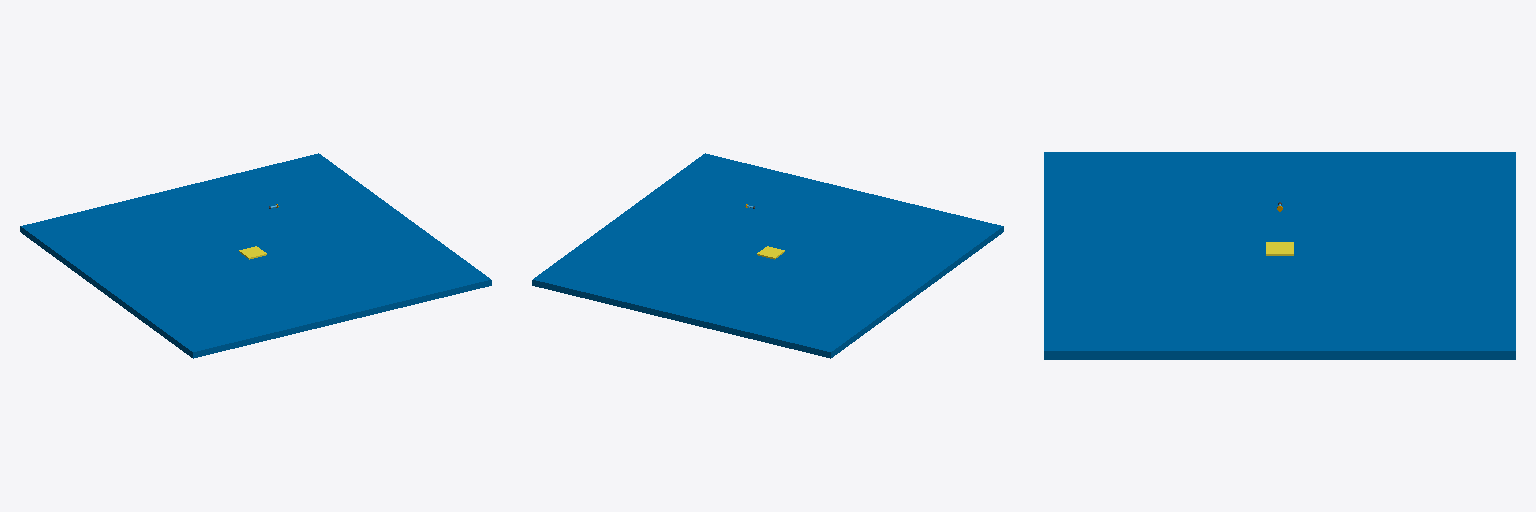
URDF robot description (panda):
<?xml version="1.0" encoding="utf-8"?>

<robot xmlns:drake="http://drake.mit.edu" name="panda">
  <material name="black">
    <color rgba="0.3 0.3 0.3 1"/>
  </material>

  <link name="panda_link0">
    <inertial>
      <mass value="2.92"/>
      <origin xyz="-0.025566 -2.88e-05 0.057332" rpy="0 0 0"/>
      <inertia ixx="0.00782229414331" ixy="-1.56191622996e-05" ixz="-0.00126005738123" iyy="0.0109027971813" iyz="1.08233858202e-05" izz="0.0102355503949"/>
    </inertial>
    <visual>
      <origin rpy="1.57079632679 0 0"/>
      <geometry>
        <mesh filename="package://drake_models/franka_description/meshes/visual/link0.obj"/>
      </geometry>
    </visual>
    <collision>
      <origin rpy="0 0 0" xyz="0.02 0.0 0.04"/>
      <geometry>
        <sphere radius="0.06"/>
      </geometry>
    </collision>
    <collision>
      <origin rpy="0 0 0" xyz="0.01 0.05 0.06"/>
      <geometry>
        <sphere radius="0.06"/>
      </geometry>
    </collision>
    <collision>
      <origin rpy="0 0 0" xyz="0.01 -0.05 0.06"/>
      <geometry>
        <sphere radius="0.06"/>
      </geometry>
    </collision>
    <collision>
      <origin rpy="0 0 0" xyz="-0.06 0.0 0.06"/>
      <geometry>
        <sphere radius="0.06"/>
      </geometry>
    </collision>
    <collision>
      <origin rpy="0 0 0" xyz="-0.06 0.05 0.06"/>
      <geometry>
        <sphere radius="0.06"/>
      </geometry>
    </collision>
    <collision>
      <origin rpy="0 0 0" xyz="-0.03 0.05 0.06"/>
      <geometry>
        <sphere radius="0.06"/>
      </geometry>
    </collision>
    <collision>
      <origin rpy="0 0 0" xyz="-0.03 -0.05 0.06"/>
      <geometry>
        <sphere radius="0.06"/>
      </geometry>
    </collision>
    <collision>
      <origin rpy="0 0 0" xyz="-0.06 -0.05 0.06"/>
      <geometry>
        <sphere radius="0.06"/>
      </geometry>
    </collision>
    <collision>
      <origin rpy="0 0 0" xyz="-0.09 -0.05 0.06"/>
      <geometry>
        <sphere radius="0.06"/>
      </geometry>
    </collision>
    <collision>
      <origin rpy="0 0 0" xyz="-0.09 0.0 0.06"/>
      <geometry>
        <sphere radius="0.06"/>
      </geometry>
    </collision>
    <collision>
      <origin rpy="0 0 0" xyz="-0.09 0.05 0.06"/>
      <geometry>
        <sphere radius="0.06"/>
      </geometry>
    </collision>
    <collision>
      <origin rpy="0 0 0" xyz="-0.12 0.0 0.06"/>
      <geometry>
        <sphere radius="0.06"/>
      </geometry>
    </collision>
    <collision>
      <origin rpy="0 0 0" xyz="0.0 0.0 0.113"/>
      <geometry>
        <sphere radius="0.06"/>
      </geometry>
    </collision>
    <collision>
      <origin rpy="0 0 0" xyz="0.0 0.0 0.083"/>
      <geometry>
        <sphere radius="0.06"/>
      </geometry>
    </collision>
  </link>
  <link name="panda_link1">
    <inertial>
      <mass value="2.74"/>
      <origin xyz="0 -0.0324958 -0.0675818" rpy="0 0 0"/>
      <inertia ixx="0.0180416958283" ixy="0.0" ixz="0.0" iyy="0.0159136071891" iyz="0.0046758424612" izz="0.00620690827127"/>
    </inertial>
    <visual>
      <origin rpy="1.57079632679 0 0"/>
      <geometry>
        <mesh filename="package://drake_models/franka_description/meshes/visual/link1.obj"/>
      </geometry>
    </visual>
    <collision>
      <origin rpy="0 0 0" xyz="0.0 0.0 -0.13"/>
      <geometry>
        <sphere radius="0.06"/>
      </geometry>
    </collision>
    <collision>
      <origin rpy="0 0 0" xyz="0.0 0.0 -0.16"/>
      <geometry>
        <sphere radius="0.06"/>
      </geometry>
    </collision>
    <collision>
      <origin rpy="0 0 0" xyz="0.0 0.0 -0.19"/>
      <geometry>
        <sphere radius="0.06"/>
      </geometry>
    </collision>
    <collision>
      <origin rpy="0 0 0" xyz="0.0 -0.04 -0.06"/>
      <geometry>
        <sphere radius="0.06"/>
      </geometry>
    </collision>
    <collision>
      <origin rpy="0 0 0" xyz="0.0 -0.0750 -0.0"/>
      <geometry>
        <sphere radius="0.06"/>
      </geometry>
    </collision>
    <collision>
      <origin rpy="0 0 0" xyz="0.0 -0.0350 -0.0"/>
      <geometry>
        <sphere radius="0.06"/>
      </geometry>
    </collision>
  </link>
  <joint name="panda_joint1" type="revolute">
    <origin rpy="0 0 0" xyz="0 0 0.333"/>
    <parent link="panda_link0"/>
    <child link="panda_link1"/>
    <axis xyz="0 0 1"/>
    <limit effort="87" lower="-2.8973" upper="2.8973" velocity="2.1750"/>
  </joint>
  <link name="panda_link2">
    <inertial>
      <mass value="2.74"/>
      <origin xyz="0 -0.06861 0.0322285" rpy="0 0 0"/>
      <inertia ixx="0.0182856182281" ixy="0.0" ixz="0.0" iyy="0.00621358421175" iyz="-0.00472844221905" izz="0.0161514346309"/>
    </inertial>
    <visual>
      <origin rpy="1.57079632679 0 0"/>
      <geometry>
        <mesh filename="package://drake_models/franka_description/meshes/visual/link2.obj"/>
      </geometry>
    </visual>
    <collision>
      <origin rpy="0 0 0" xyz="0.0 0.0 0.0"/>
      <geometry>
        <sphere radius="0.06"/>
      </geometry>
    </collision>
    <collision>
      <origin rpy="0 0 0" xyz="0.0 0.0 0.035"/>
      <geometry>
        <sphere radius="0.06"/>
      </geometry>
    </collision>
    <collision>
      <origin rpy="0 0 0" xyz="0.0 0.0 0.075"/>
      <geometry>
        <sphere radius="0.06"/>
      </geometry>
    </collision>
    <collision>
      <origin rpy="0 0 0" xyz="0.0 -0.1710 0.0"/>
      <geometry>
        <sphere radius="0.06"/>
      </geometry>
    </collision>
    <collision>
      <origin rpy="0 0 0" xyz="0.0 -0.1360 0.0"/>
      <geometry>
        <sphere radius="0.06"/>
      </geometry>
    </collision>
    <collision>
      <origin rpy="0 0 0" xyz="0.0 -0.070 0.040"/>
      <geometry>
        <sphere radius="0.06"/>
      </geometry>
    </collision>
  </link>
  <joint name="panda_joint2" type="revolute">
    <origin rpy="-1.57079632679 0 0" xyz="0 0 0"/>
    <parent link="panda_link1"/>
    <child link="panda_link2"/>
    <axis xyz="0 0 1"/>
    <limit effort="87" lower="-1.7628" upper="1.7628" velocity="2.1750"/>
  </joint>
  <link name="panda_link3">
    <inertial>
      <mass value="2.38"/>
      <origin xyz="0.0469893 0.0316374 -0.031704" rpy="0 0 0"/>
      <inertia ixx="0.00771376630908" ixy="-0.00248490625138" ixz="-0.00332147581033" iyy="0.00989108008727" iyz="-0.00217796151484" izz="0.00811723558464"/>
    </inertial>
    <visual>
      <origin rpy="1.57079632679 0 0"/>
      <geometry>
        <mesh filename="package://drake_models/franka_description/meshes/visual/link3.obj"/>
      </geometry>
    </visual>
    <collision>
      <origin rpy="0 0 0" xyz="0.0 0.0 -0.11"/>
      <geometry>
        <sphere radius="0.06"/>
      </geometry>
    </collision>
    <collision>
      <origin rpy="0 0 0" xyz="0.0 0.0 -0.07"/>
      <geometry>
        <sphere radius="0.06"/>
      </geometry>
    </collision>
    <collision>
      <origin rpy="0 0 0" xyz="0.0825 0.03 -0.0"/>
      <geometry>
        <sphere radius="0.06"/>
      </geometry>
    </collision>
    <collision>
      <origin rpy="0 0 0" xyz="0.0825 0.06 -0.0"/>
      <geometry>
        <sphere radius="0.06"/>
      </geometry>
    </collision>
    <collision>
      <origin rpy="0 0 0" xyz="0.04 0.03 -0.03"/>
      <geometry>
        <sphere radius="0.06"/>
      </geometry>
    </collision>
  </link>
  <joint name="panda_joint3" type="revolute">
    <origin rpy="1.57079632679 0 0" xyz="0 -0.316 0"/>
    <parent link="panda_link2"/>
    <child link="panda_link3"/>
    <axis xyz="0 0 1"/>
    <limit effort="87" lower="-2.8973" upper="2.8973" velocity="2.1750"/>
  </joint>
  <link name="panda_link4">
    <inertial>
      <mass value="2.38"/>
      <origin xyz="-0.0360446 0.0336853 0.031882" rpy="0 0 0"/>
      <inertia ixx="0.00799663881132" ixy="0.00347095570217" ixz="-0.00241222942995" iyy="0.00825390705278" iyz="0.00235774044121" izz="0.0102515004345"/>
    </inertial>
    <visual>
      <origin rpy="1.57079632679 0 0"/>
      <geometry>
        <mesh filename="package://drake_models/franka_description/meshes/visual/link4.obj"/>
      </geometry>
    </visual>
    <collision>
      <origin rpy="0 0 0" xyz="0.0 0.0 0.06"/>
      <geometry>
        <sphere radius="0.06"/>
      </geometry>
    </collision>
    <collision>
      <origin rpy="0 0 0" xyz="0.0 0.0 0.03"/>
      <geometry>
        <sphere radius="0.06"/>
      </geometry>
    </collision>
    <collision>
      <origin rpy="0 0 0" xyz="-0.0350 0.03 0.04"/>
      <geometry>
        <sphere radius="0.05"/>
      </geometry>
    </collision>
    <collision>
      <origin rpy="0 0 0" xyz="-0.05 0.04 0.01"/>
      <geometry>
        <sphere radius="0.055"/>
      </geometry>
    </collision>
    <collision>
      <origin rpy="0 0 0" xyz="0.0 0.0 0.0"/>
      <geometry>
        <sphere radius="0.06"/>
      </geometry>
    </collision>
    <collision>
      <origin rpy="0 0 0" xyz="-0.0825 0.0640 -0.0"/>
      <geometry>
        <sphere radius="0.06"/>
      </geometry>
    </collision>
    <collision>
      <origin rpy="0 0 0" xyz="-0.0825 0.1040 -0.0"/>
      <geometry>
        <sphere radius="0.06"/>
      </geometry>
    </collision>
  </link>
  <joint name="panda_joint4" type="revolute">
    <origin rpy="1.57079632679 0 0" xyz="0.0825 0 0"/>
    <parent link="panda_link3"/>
    <child link="panda_link4"/>
    <axis xyz="0 0 1"/>
    <limit effort="87" lower="-3.0718" upper="-0.0698" velocity="2.1750"/>
  </joint>
  <link name="panda_link5">
    <inertial>
      <mass value="2.74"/>
      <origin xyz="0 0.0610427 -0.104176" rpy="0 0 0"/>
      <inertia ixx="0.030371374513" ixy="6.50283587108e-07" ixz="-1.05129179916e-05" iyy="0.0288752887402" iyz="-0.00775653445787" izz="0.00444134056164"/>
    </inertial>
    <visual>
      <origin rpy="1.57079632679 0 0"/>
      <geometry>
        <mesh filename="package://drake_models/franka_description/meshes/visual/link5.obj"/>
      </geometry>
    </visual>
    <collision>
      <origin rpy="0 0 0" xyz="0.0 0.0 -0.24"/>
      <geometry>
        <sphere radius="0.06"/>
      </geometry>
    </collision>
    <collision>
      <origin rpy="0 0 0" xyz="0.0 0.0 -0.21"/>
      <geometry>
        <sphere radius="0.06"/>
      </geometry>
    </collision>
    <collision>
      <origin rpy="0 0 0" xyz="0.0 0.09 -0.055"/>
      <geometry>
        <sphere radius="0.035"/>
      </geometry>
    </collision>
    <collision>
      <origin rpy="0 0 0" xyz="0.0 0.0850 -0.08"/>
      <geometry>
        <sphere radius="0.035"/>
      </geometry>
    </collision>
    <collision>
      <origin rpy="0 0 0" xyz="0.0 0.0850 -0.11"/>
      <geometry>
        <sphere radius="0.035"/>
      </geometry>
    </collision>
    <collision>
      <origin rpy="0 0 0" xyz="0.0 0.08 -0.13"/>
      <geometry>
        <sphere radius="0.035"/>
      </geometry>
    </collision>
    <collision>
      <origin rpy="0 0 0" xyz="0.0 0.08 -0.15"/>
      <geometry>
        <sphere radius="0.035"/>
      </geometry>
    </collision>
    <collision>
      <origin rpy="0 0 0" xyz="0.0 0.07 -0.16"/>
      <geometry>
        <sphere radius="0.04"/>
      </geometry>
    </collision>
    <collision>
      <origin rpy="0 0 0" xyz="0.0 0.08 -0.02"/>
      <geometry>
        <sphere radius="0.05"/>
      </geometry>
    </collision>
    <collision>
      <origin rpy="0 0 0" xyz="0.0 0.08 -0.0"/>
      <geometry>
        <sphere radius="0.055"/>
      </geometry>
    </collision>
    <collision>
      <origin rpy="0 0 0" xyz="0.0 0.05 -0.20"/>
      <geometry>
        <sphere radius="0.055"/>
      </geometry>
    </collision>
    <collision>
      <origin rpy="0 0 0" xyz="0.0 0.07 -0.0"/>
      <geometry>
        <sphere radius="0.06"/>
      </geometry>
    </collision>
  </link>
  <joint name="panda_joint5" type="revolute">
    <origin rpy="-1.57079632679 0 0" xyz="-0.0825 0.384 0"/>
    <parent link="panda_link4"/>
    <child link="panda_link5"/>
    <axis xyz="0 0 1"/>
    <limit effort="12" lower="-2.8973" upper="2.8973" velocity="2.610"/>
  </joint>
  <link name="panda_link6">
    <inertial>
      <mass value="1.55"/>
      <origin xyz="0.0510509 0.009108 0.0106343" rpy="0 0 0"/>
      <inertia ixx="0.00303336450376" ixy="-0.000437276865508" ixz="0.000629257294877" iyy="0.00404479911567" iyz="0.000130472021025" izz="0.00558234286039"/>
    </inertial>
    <visual>
      <origin rpy="1.57079632679 0 0"/>
      <geometry>
        <mesh filename="package://drake_models/franka_description/meshes/visual/link6.obj"/>
      </geometry>
    </visual>
    <collision>
      <origin rpy="0 0 0" xyz="0.08 0.03 0.0"/>
      <geometry>
        <sphere radius="0.06"/>
      </geometry>
    </collision>
    <collision>
      <origin rpy="0 0 0" xyz="0.04 0.01 0.0"/>
      <geometry>
        <sphere radius="0.06"/>
      </geometry>
    </collision>
    <collision>
      <origin rpy="0 0 0" xyz="0.04 0.0 0.0"/>
      <geometry>
        <sphere radius="0.06"/>
      </geometry>
    </collision>
    <collision>
      <origin rpy="0 0 0" xyz="0.0 0.0 0.01"/>
      <geometry>
        <sphere radius="0.06"/>
      </geometry>
    </collision>
    <collision>
      <origin rpy="0 0 0" xyz="0.0 0.0 -0.03"/>
      <geometry>
        <sphere radius="0.05"/>
      </geometry>
    </collision>
  </link>
  <joint name="panda_joint6" type="revolute">
    <origin rpy="1.57079632679 0 0" xyz="0 0 0"/>
    <parent link="panda_link5"/>
    <child link="panda_link6"/>
    <axis xyz="0 0 1"/>
    <limit effort="12" lower="-0.0175" upper="3.7525" velocity="2.610"/>
  </joint>
  <link name="panda_link7">,
    <inertial>
      <mass value="0.54"/>
      <origin xyz="0.0109695 0.0107965 0.0650411" rpy="0 0 0"/>
      <inertia ixx="0.000888868887021" ixy="-0.00012239074652" ixz="3.98699829666e-05" iyy="0.000888001373233" iyz="-9.33825115206e-05" izz="0.0007176834609"/>
    </inertial>
    <visual>
      <origin rpy="1.57079632679 0 0"/>
      <geometry>
        <mesh filename="package://drake_models/franka_description/meshes/visual/link7.obj"/>
      </geometry>
    </visual>
    <collision>
      <origin rpy="0 0 0" xyz="0 0 0.06"/>
      <geometry>
        <sphere radius="0.06"/>
      </geometry>
    </collision>
    <collision>
      <origin rpy="0 0 0" xyz="0 0 0.01"/>
      <geometry>
        <sphere radius="0.05"/>
      </geometry>
    </collision>
  </link>
  <joint name="panda_joint7" type="revolute">
    <origin rpy="1.57079632679 0 0" xyz="0.088 0 0"/>
    <parent link="panda_link6"/>
    <child link="panda_link7"/>
    <axis xyz="0 0 1"/>
    <limit effort="12" lower="-2.8973" upper="2.8973" velocity="2.610"/>
  </joint>
  <link name="panda_link8">
    <inertial>
      <origin rpy="0 0 0" xyz="0 0 0.0048"/>
      <mass value="0.0779312"/>
      <interia ixx="0.0000193318083" iyy="0.0000193318083" izz="0.0000386636166" ixy="0" ixz="0" iyz="0"/>
    </inertial>
    <collision>
      <origin rpy="0 0 0" xyz="0 0 0.0048"/>
      <geometry>
        <cylinder radius="0.0315" length="0.0096"/>
      </geometry>
    </collision>
    <visual>
      <origin rpy="0 0 0" xyz="0 0 0.0048"/>
      <geometry>
        <cylinder radius="0.0315" length="0.0096"/>
      </geometry>
    </visual>
  </link>
  <joint name="panda_joint8" type="fixed">
    <origin rpy="0 0 0" xyz="0 0 0.107"/>
    <parent link="panda_link7"/>
    <child link="panda_link8"/>
  </joint>
  <link name="panda_link9">
    <inertial>
      <origin rpy="0 0 0" xyz="0 0 0.0508"/>
      <mass value="0.1340688"/>
      <interia ixx="0.000005405989188" iyy="0.000005405989188" izz="0.000010811978376" ixy="0" ixz="0" iyz="0"/>
    </inertial>
    <visual>
      <origin rpy="0 0 0" xyz="0 0 0.0508"/>
      <geometry>
        <cylinder radius="0.0127" length="0.1016"/>
      </geometry>
    </visual>
  </link>
  <joint name="panda_joint9" type="fixed">
    <origin rpy="0 0 0" xyz="0 0 0.0096"/>
    <parent link="panda_link8"/>
    <child link="panda_link9"/>
  </joint>
  <link name="panda_link10">
   <inertial>
      <origin rpy="0 0 0" xyz="0 0 0.0153"/>
      <mass value="0.057"/>
      <interia ixx="0.0" iyy="0.0" izz="0.0" ixy="0" ixz="0" iyz="0"/>
    </inertial>
    <visual>
      <origin rpy="0 0 0" xyz="0 0 0.0153"/>
      <geometry>
        <sphere radius="0.0195"/>
      </geometry>
      <material name="black"/>
    </visual>
    <collision>
      <origin rpy="0 0 0" xyz="0 0 0.0153"/>
      <geometry>
        <sphere radius="0.0195"/>
      </geometry>
    </collision>
  </link>
  <joint name="panda_joint10" type="fixed">
    <origin rpy="0 0 0" xyz="0 0 0.1016"/>
    <parent link="panda_link9"/>
    <child link="panda_link10"/>
  </joint>
  <transmission name="panda_tran1">
    <type>transmission_interface/SimpleTransmission</type>
    <joint name="panda_joint1">
      <hardwareInterface>PositionJointInterface</hardwareInterface>
    </joint>
    <actuator name="panda_motor1">
      <hardwareInterface>PositionJointInterface</hardwareInterface>
      <mechanicalReduction>1</mechanicalReduction>
    </actuator>
  </transmission>
  <transmission name="panda_tran2">
    <type>transmission_interface/SimpleTransmission</type>
    <joint name="panda_joint2">
      <hardwareInterface>PositionJointInterface</hardwareInterface>
    </joint>
    <actuator name="panda_motor2">
      <hardwareInterface>PositionJointInterface</hardwareInterface>
      <mechanicalReduction>1</mechanicalReduction>
    </actuator>
  </transmission>
  <transmission name="panda_tran3">
    <type>transmission_interface/SimpleTransmission</type>
    <joint name="panda_joint3">
      <hardwareInterface>PositionJointInterface</hardwareInterface>
    </joint>
    <actuator name="panda_motor3">
      <hardwareInterface>PositionJointInterface</hardwareInterface>
      <mechanicalReduction>1</mechanicalReduction>
    </actuator>
  </transmission>
  <transmission name="panda_tran4">
    <type>transmission_interface/SimpleTransmission</type>
    <joint name="panda_joint4">
      <hardwareInterface>PositionJointInterface</hardwareInterface>
    </joint>
    <actuator name="panda_motor4">
      <hardwareInterface>PositionJointInterface</hardwareInterface>
      <mechanicalReduction>1</mechanicalReduction>
    </actuator>
  </transmission>
  <transmission name="panda_tran5">
    <type>transmission_interface/SimpleTransmission</type>
    <joint name="panda_joint5">
      <hardwareInterface>PositionJointInterface</hardwareInterface>
    </joint>
    <actuator name="panda_motor5">
      <hardwareInterface>PositionJointInterface</hardwareInterface>
      <mechanicalReduction>1</mechanicalReduction>
    </actuator>
  </transmission>
  <transmission name="panda_tran6">
    <type>transmission_interface/SimpleTransmission</type>
    <joint name="panda_joint6">
      <hardwareInterface>PositionJointInterface</hardwareInterface>
    </joint>
    <actuator name="panda_motor6">
      <hardwareInterface>PositionJointInterface</hardwareInterface>
      <mechanicalReduction>1</mechanicalReduction>
    </actuator>
  </transmission>
  <transmission name="panda_tran7">
    <type>transmission_interface/SimpleTransmission</type>
    <joint name="panda_joint7">
      <hardwareInterface>PositionJointInterface</hardwareInterface>
    </joint>
    <actuator name="panda_motor7">
      <hardwareInterface>PositionJointInterface</hardwareInterface>
      <mechanicalReduction>1</mechanicalReduction>
    </actuator>
  </transmission>
  <drake:collision_filter_group name="group_link57">
    <drake:member link="panda_link5"/>
    <drake:member link="panda_link7"/>
    <drake:ignored_collision_filter_group name="group_link57"/>
  </drake:collision_filter_group>

    <!-- Visual box to connect franka to box (table) -->
      <link name="connection">
        <visual>
          <origin xyz="-0.05 0 -0.01225" />
          <geometry>
            <box size="0.3 0.3 0.0245"/>
          </geometry>
        </visual>
      </link>
      <joint name="base_to_connection" type="fixed">
        <parent link="panda_link0"/>
        <child link="connection"/>
        <origin xyz="0 0 0"/>
      </joint>


	<link name="box">
    <inertial>
      <mass value="1"/>
      <!-- Inertia values were calculated to be consistent with the mass and
           geometry size, assuming a uniform density. -->
     <inertia ixx="100"  ixy="0"  ixz="0" iyy="100" iyz="0" izz="100" />
    </inertial>
    <visual>
      <geometry>
        <box size="5 5 0.1"/>
      </geometry>
    </visual>
   <collision name="box">
      <geometry>
        <box size="5 5 0.1"/>
      </geometry>
                  <drake:proximity_properties>
        <drake:mu_static value="1"/>
        <drake:mu_dynamic value="1"/>
      </drake:proximity_properties>
    </collision>
    <contact>
            <!-- TODO: not sure if these values make sense -->
            <!-- TODO: are these values even read by pybullet? -->
            <lateral_friction value="0.0"/>
            <rolling_friction value="0.0"/>
            <contact_cfm value="0.0"/>
            <contact_erp value="0.0"/>
        </contact>
  </link>

    <joint name="connection_to_box" type="fixed">
      <parent link="connection"/>
      <child link="box"/>
      <!-- lowered the table since Franka table is a bit lower as well (offset by -0.0301)-->
      <origin xyz="0 0 -0.07450000000000001"/> <!-- -0.05 + table_offset-->
    </joint>



   <drake:collision_filter_group name="box_group">
  <drake:member link="box"/>
  <drake:ignored_collision_filter_group name="box_group"/>
  </drake:collision_filter_group>



</robot>

--- Facts derived from the render (not from the file) ---
3 views of the same robot in one strip: view 1: azimuth 30°, elevation 25°; view 2: azimuth 150°, elevation 25°; view 3: azimuth 270°, elevation 25° (orthographic).
Robot: panda — 13 links, 12 joints (7 revolute, 5 fixed); root link panda_link0; default pose: joints at zero except 1 at the middle of their limits (panda_joint4 = -1.57).
Visible links, largest first — view 1: box; view 2: box; view 3: box.
Boxes of the visible links, x1=… form: box: x1=20, y1=153, x2=491, y2=358; box: x1=532, y1=153, x2=1003, y2=358; box: x1=1044, y1=152, x2=1515, y2=359.
Size in the robot's own frame: 5 by 5 by 0.7995 metres.
0 mesh visuals loaded from 8 distinct referenced files (none loaded); not drawn: 8 (reference not matched to a file when rendering).